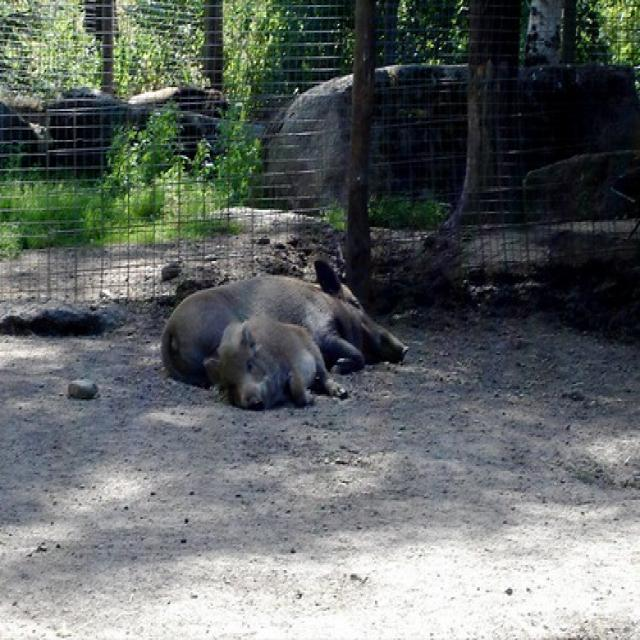boar: (157, 251, 422, 400), (200, 315, 354, 432)
